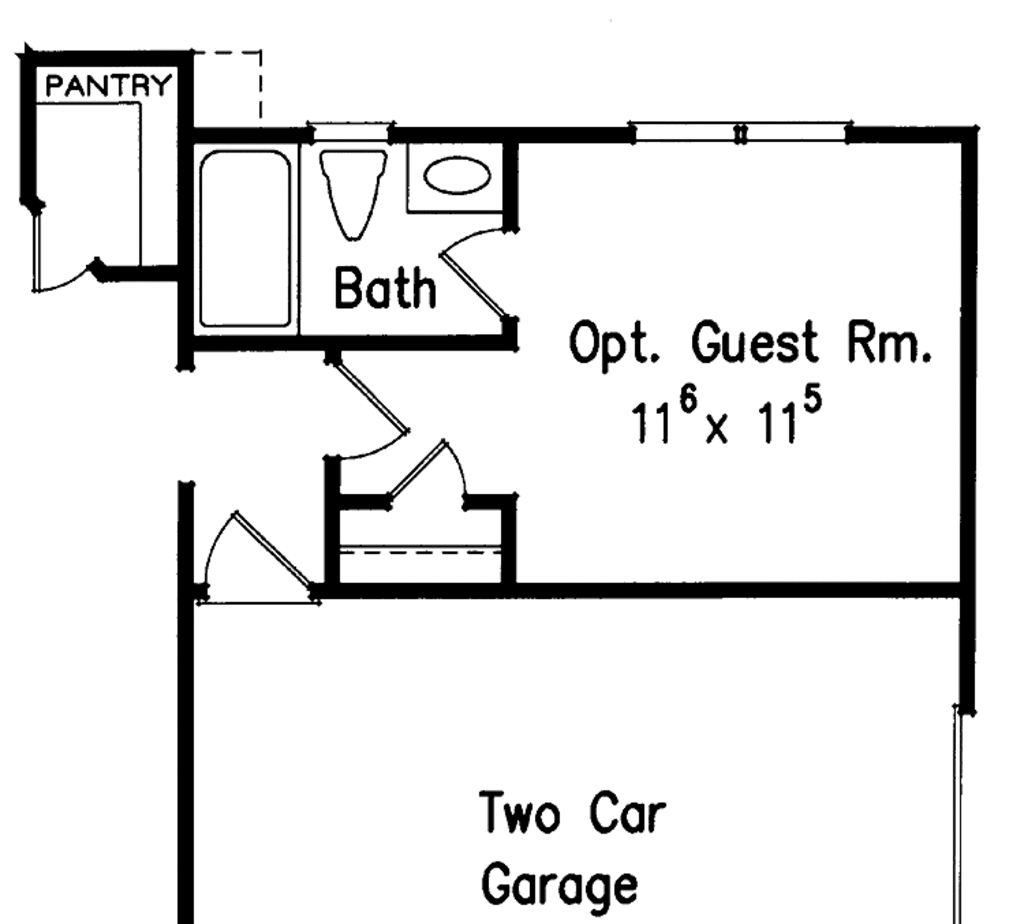door: (205, 510, 316, 603), (436, 223, 534, 320), (315, 364, 412, 461), (378, 432, 474, 508), (29, 208, 105, 298)
large_sink: (308, 140, 391, 247)
small_sink: (403, 140, 503, 222)
tub: (196, 137, 306, 334)
window: (630, 118, 858, 151)
